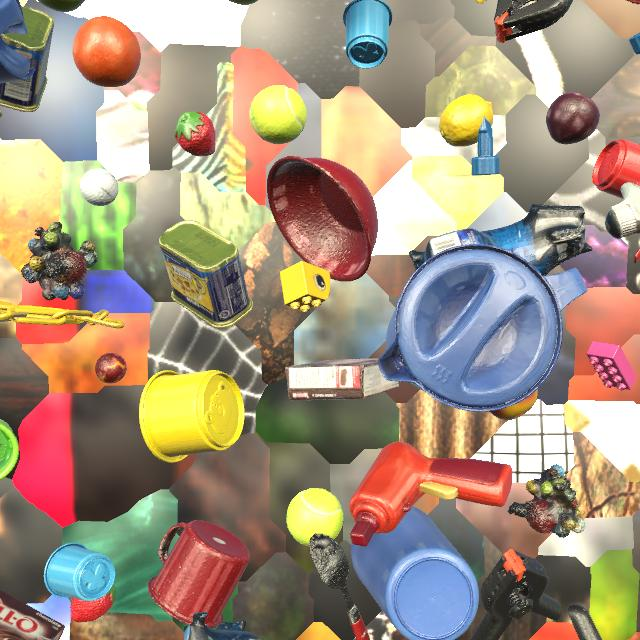ycb_008_pudding_box: (285, 358, 399, 401), (0, 590, 65, 640)
ycb_010_potted_meat_can: (159, 220, 253, 328), (0, 6, 54, 112)
ycb_012_strawberry: (174, 111, 216, 156), (70, 584, 116, 622)
ycb_014_lemon: (439, 94, 494, 147)
ycb_015_peach: (489, 390, 538, 420)
ycb_016_pear: (37, 0, 85, 12), (229, 0, 258, 5)
ycb_017_orange: (72, 16, 141, 87)
ycb_018_plum: (546, 92, 600, 144)
